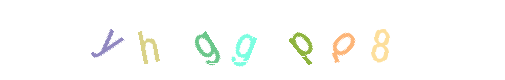8: (321, 0, 401, 80)
G: (201, 0, 281, 80), (205, 0, 285, 80)
H: (167, 0, 247, 80)
P: (212, 0, 292, 80)
Q: (262, 0, 342, 80)
Y: (67, 0, 147, 80)
